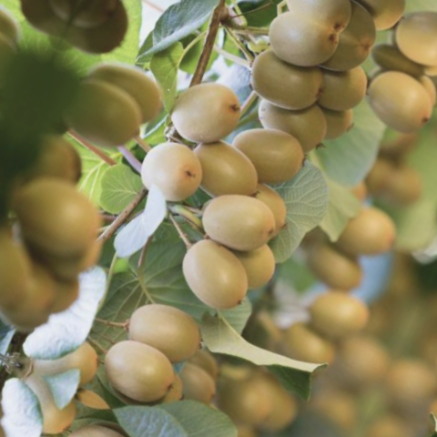kiwi: (231, 25, 350, 131), (152, 218, 271, 323), (110, 281, 216, 381), (159, 63, 259, 160), (183, 177, 282, 272), (89, 329, 190, 416), (350, 55, 437, 145)
